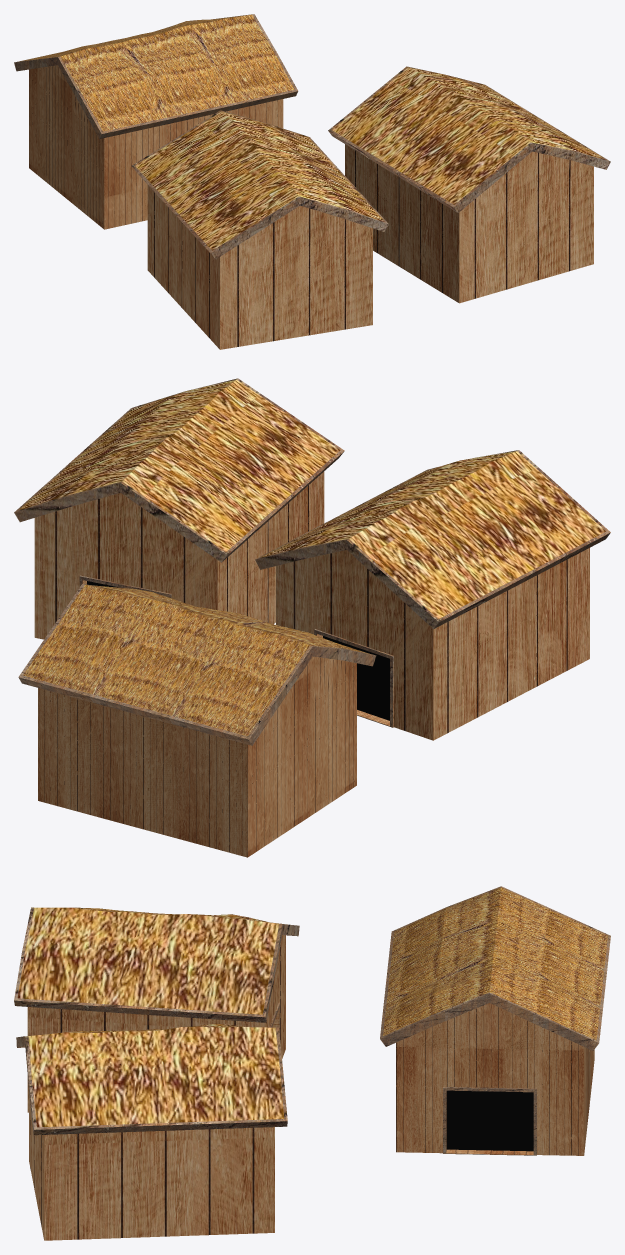
The model's file is town.fbx.
3 views of the same model, one above another, from view 1: azimuth 30°, elevation 25°; view 2: azimuth 150°, elevation 25°; view 3: azimuth 270°, elevation 25° (orthographic). The views are drawn at different scales.
Visible parts, largest first — view 1: Settlement; view 2: Settlement; view 3: Settlement.
Part boxes in pixels (<box>): Settlement: <box>14,14,610,349</box>; Settlement: <box>14,378,610,857</box>; Settlement: <box>14,886,610,1240</box>.
Size of the model in its own units: 32.36 by 11.55 by 36.95.
